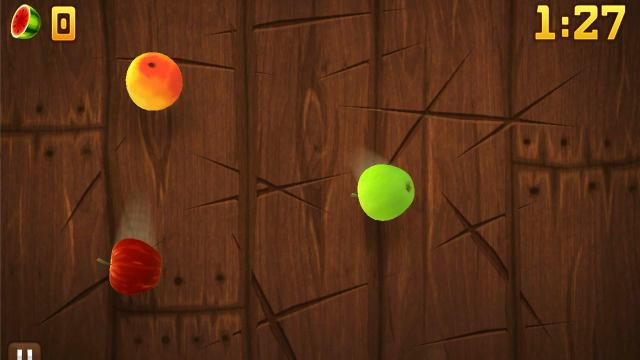fruit: (96, 236, 166, 296), (125, 51, 183, 111), (356, 164, 416, 220)
ignore: (9, 3, 43, 41)
